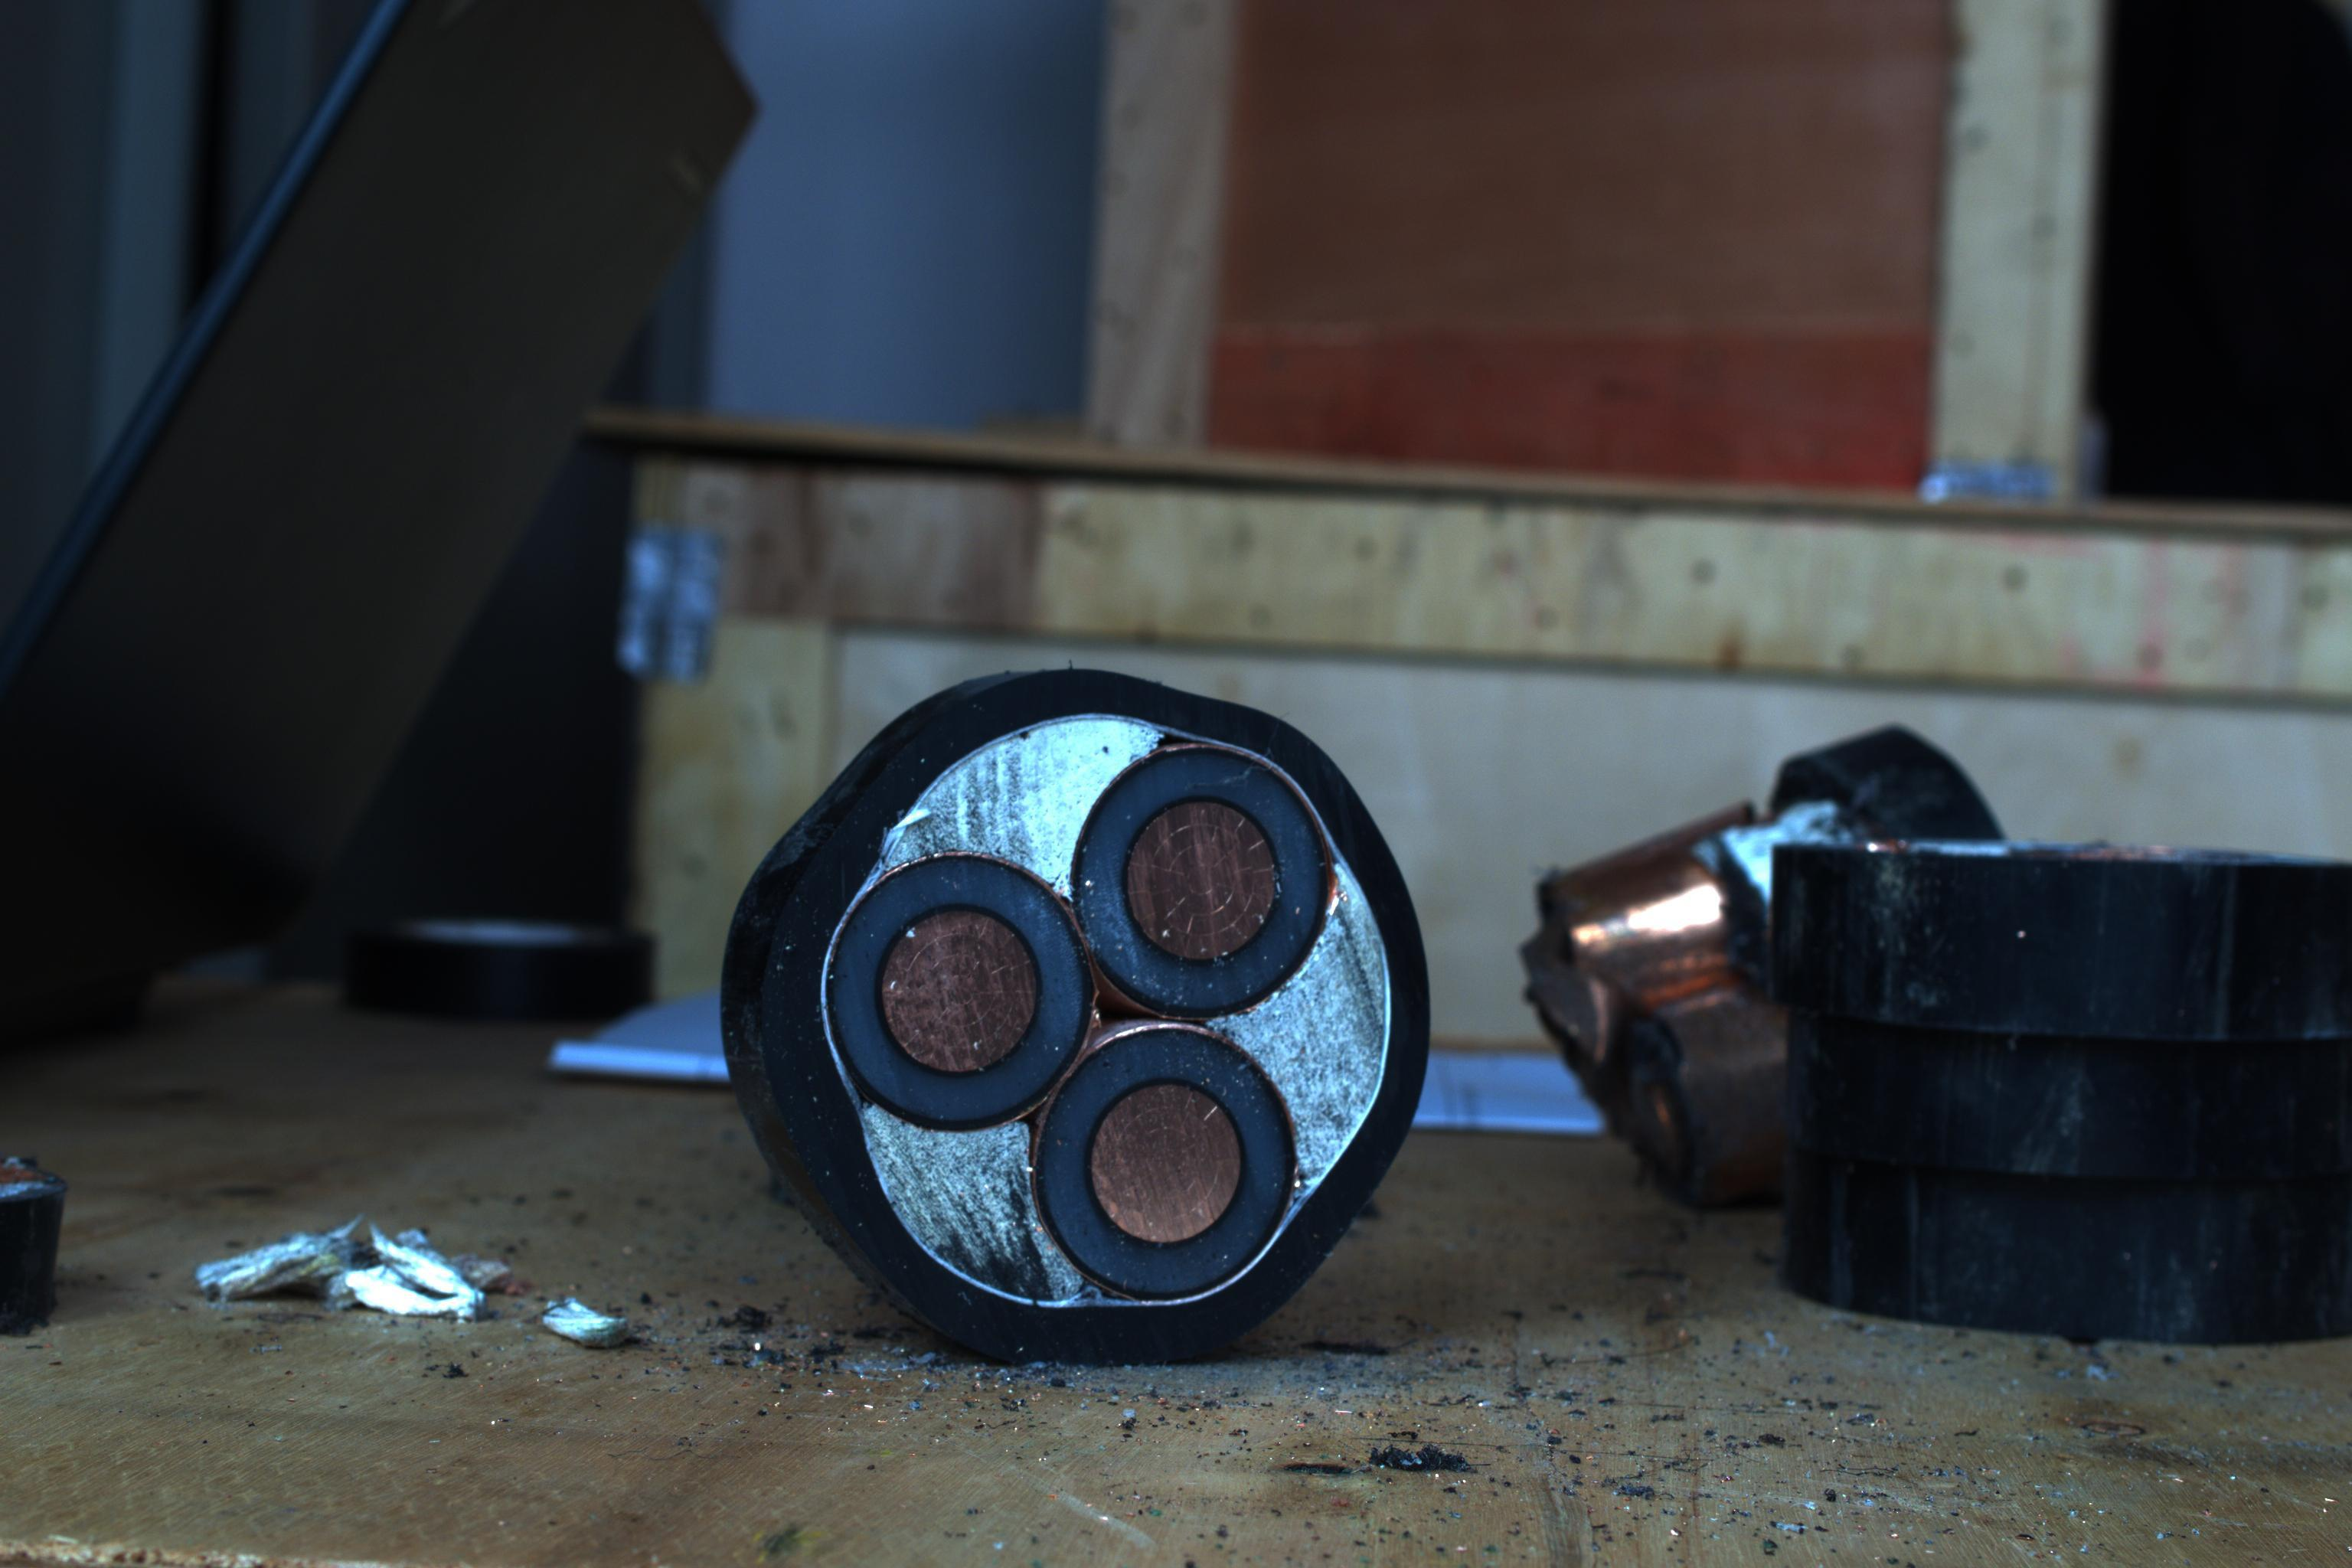ZA_YJV_8.7_10kV_3x240: (780, 675, 1412, 1330)
